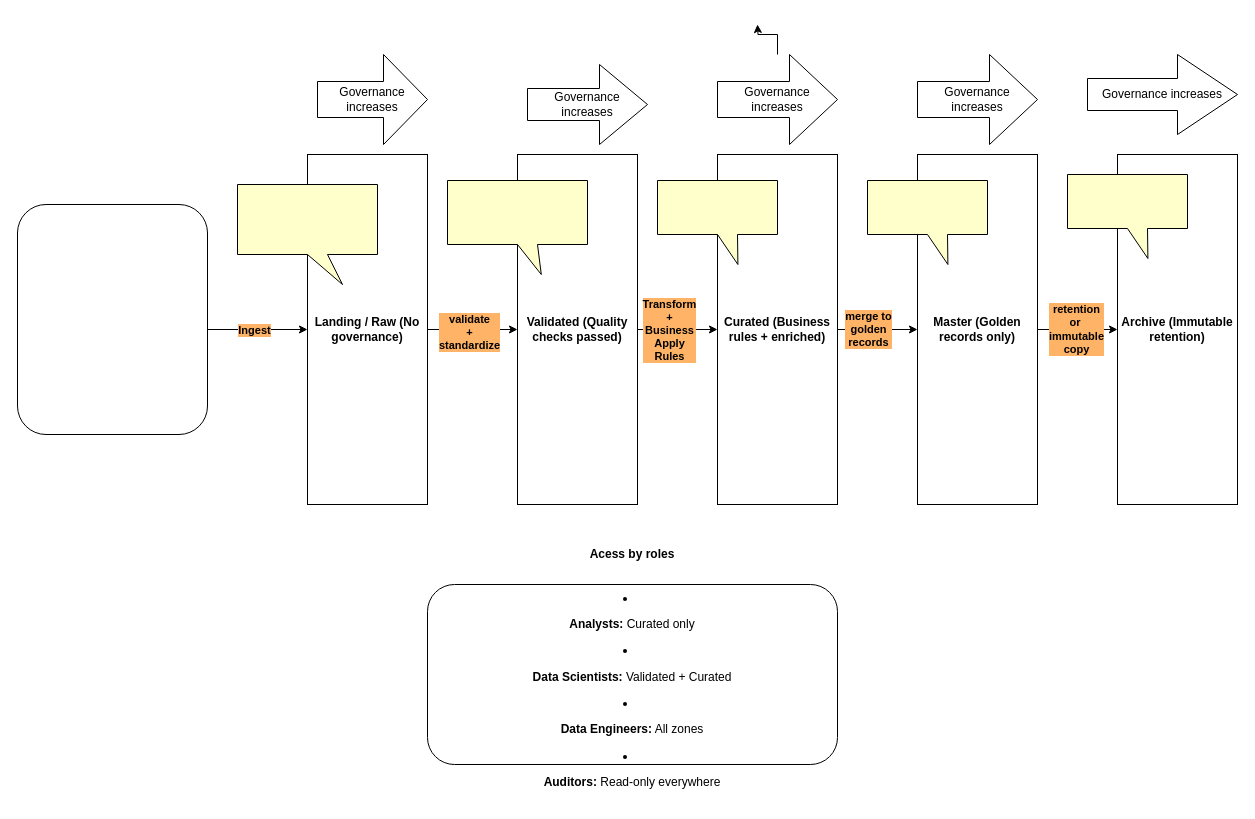
The diagram is 1255 pixels wide and 819 high, and some of its shapes have lost their labels. The shapes that lost their labels are listed below. From the top down, each one's box as (x1, y1, x2, y2) in pixels, then its label:
(236, 184, 378, 284): Append only No deletes/updates original source copy
(446, 180, 588, 274): Schema checks Null/ type checks parquet standardizing
(656, 180, 778, 264): Business Rules joins/enrichment Analytics-Ready
(866, 180, 988, 264): Golden records strict acess MDM rules
(1066, 174, 1188, 258): Immutable retention policy compilance
(16, 204, 208, 434): Sources NYC Taxi Parquet/CSV App Logs DB Exports APIs / Streaming
